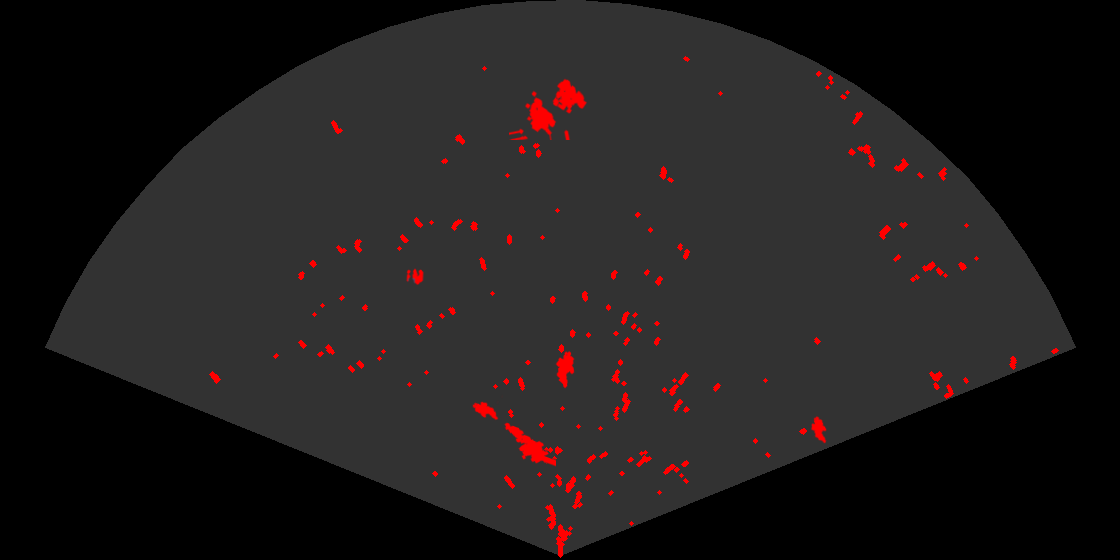AUV: (554, 349, 576, 390), (471, 394, 503, 422), (809, 415, 828, 445)
ball: (405, 267, 425, 286)
cage: (509, 77, 589, 140)
frogman: (502, 421, 556, 468)
